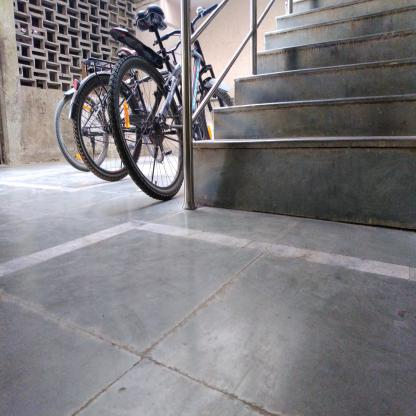stairs: (274, 16, 416, 231)
